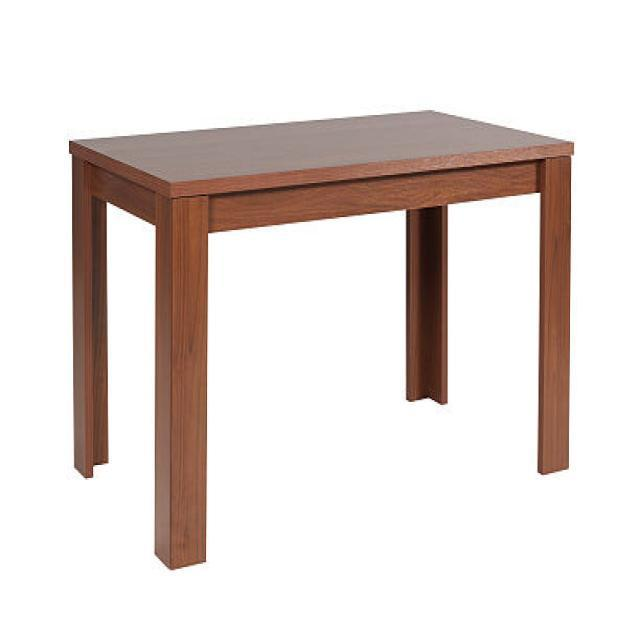table: (69, 107, 574, 569)
